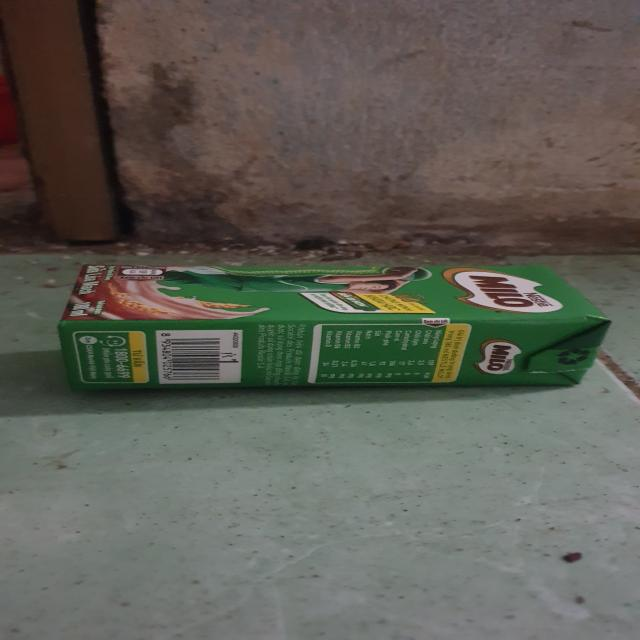Milo: (60, 268, 611, 393)
